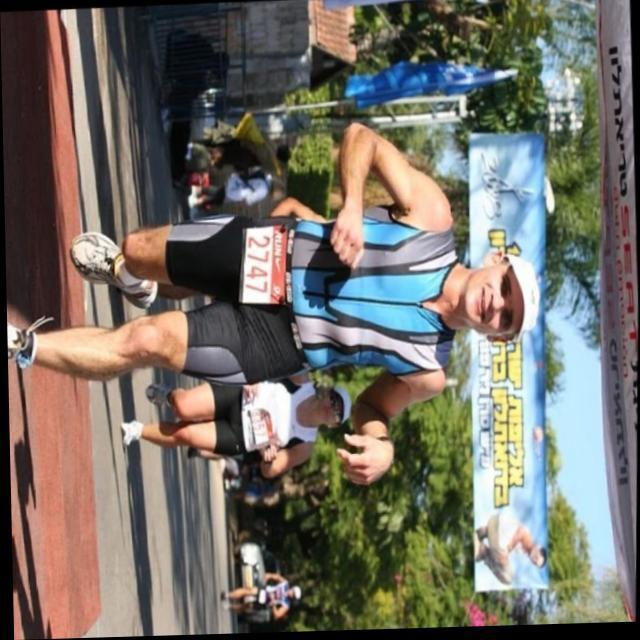dorsal: (234, 219, 295, 316)
